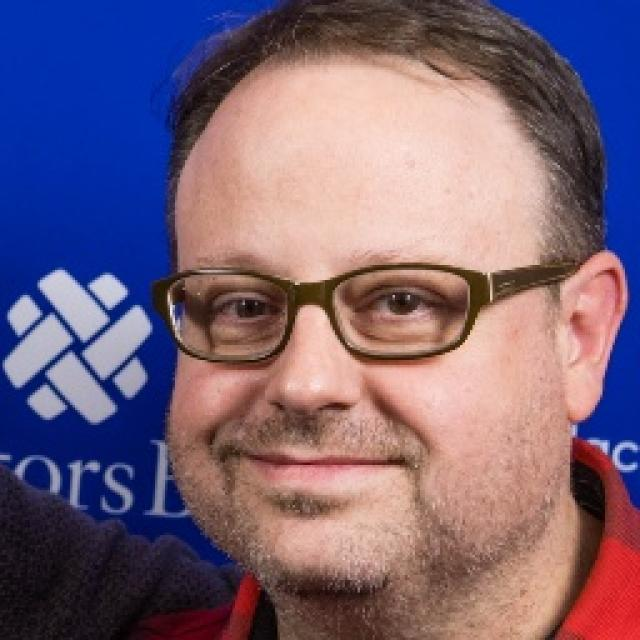earlobe: (565, 377, 602, 424)
eye: (355, 285, 445, 321), (206, 286, 286, 326)
nose: (255, 394, 364, 456)
wholeear: (560, 249, 628, 425)
